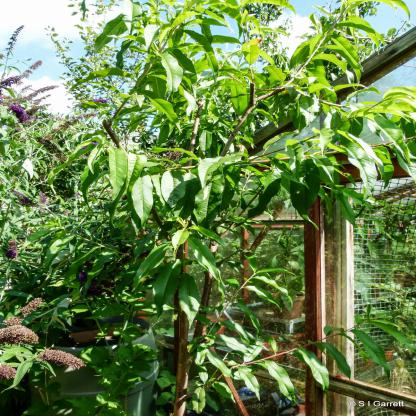Peach leaf: (185, 239, 234, 300), (251, 361, 310, 405), (291, 350, 341, 398), (149, 259, 183, 319), (130, 176, 162, 234), (346, 151, 381, 199), (157, 50, 188, 96), (111, 150, 130, 206)
